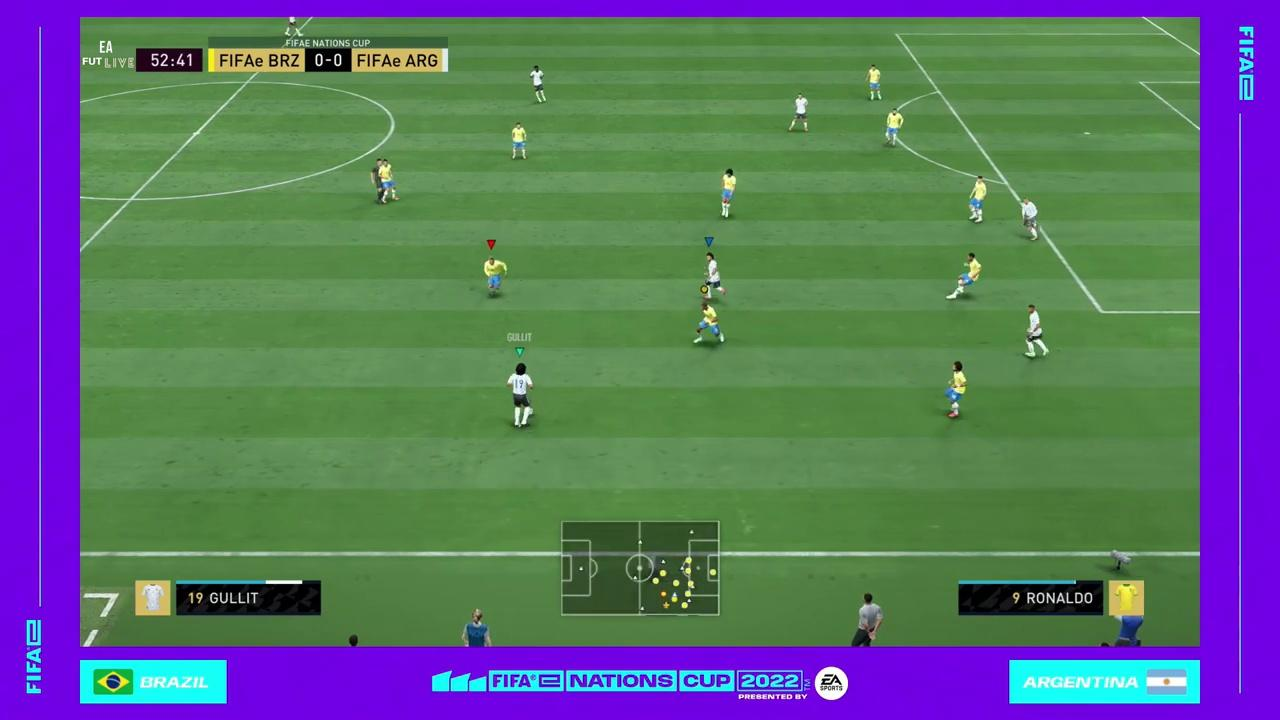scoreboard: (209, 47, 449, 74)
timestamp: (132, 45, 203, 74)
